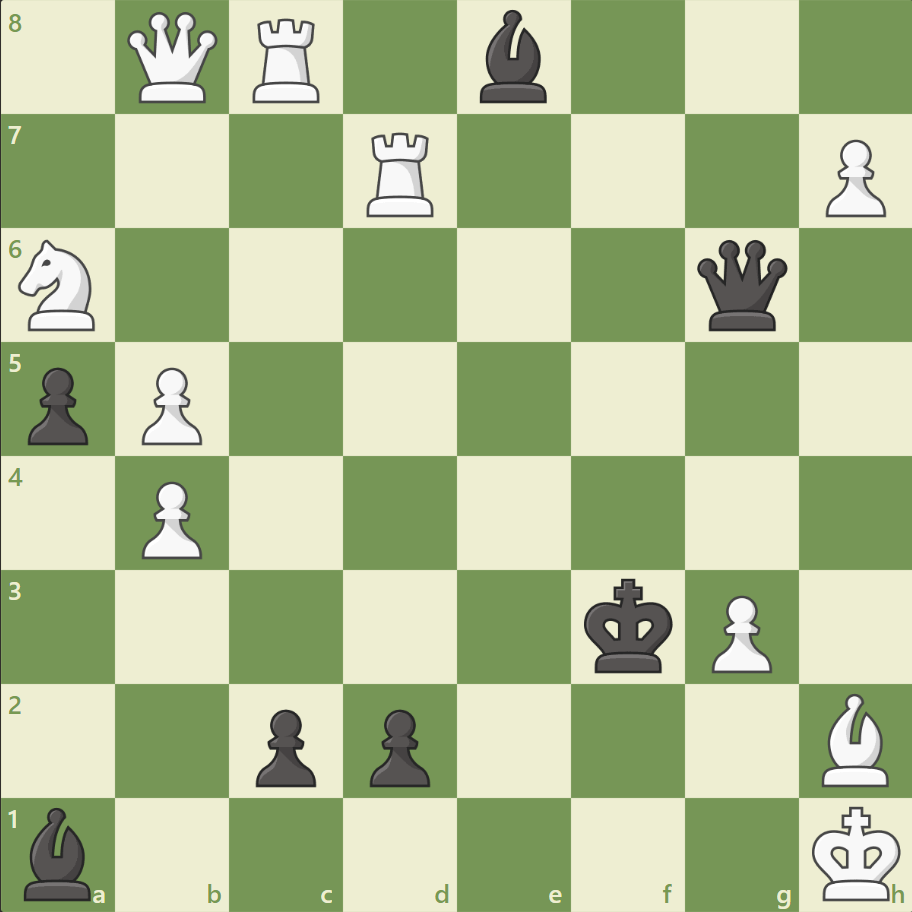B: (812, 687, 896, 790)
K: (806, 798, 906, 906)
N: (11, 234, 108, 337)
P: (133, 359, 208, 450), (133, 473, 208, 564), (701, 586, 776, 677), (815, 132, 889, 223)
Q: (124, 9, 223, 108)
R: (246, 12, 329, 109), (360, 125, 442, 222)
b: (471, 6, 555, 109), (17, 801, 101, 904)
k: (579, 571, 679, 679)
p: (20, 359, 95, 450), (247, 700, 322, 791), (361, 700, 435, 791)
q: (691, 236, 790, 335)
